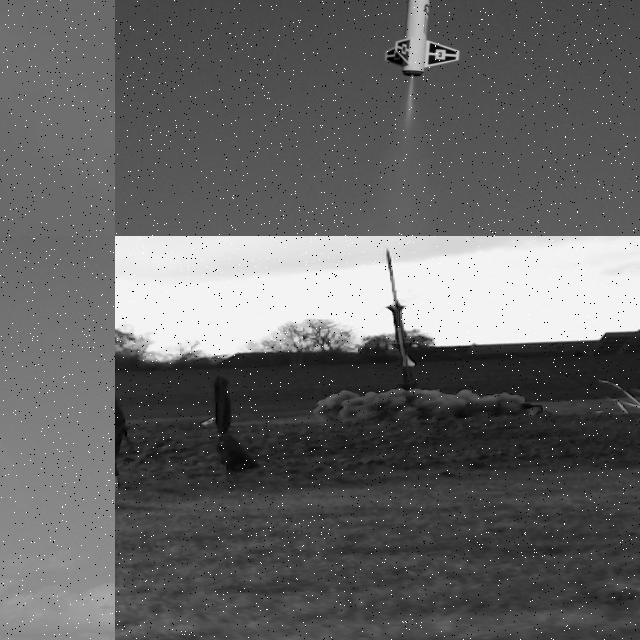Rocket: (382, 0, 461, 78), (385, 249, 417, 367)
